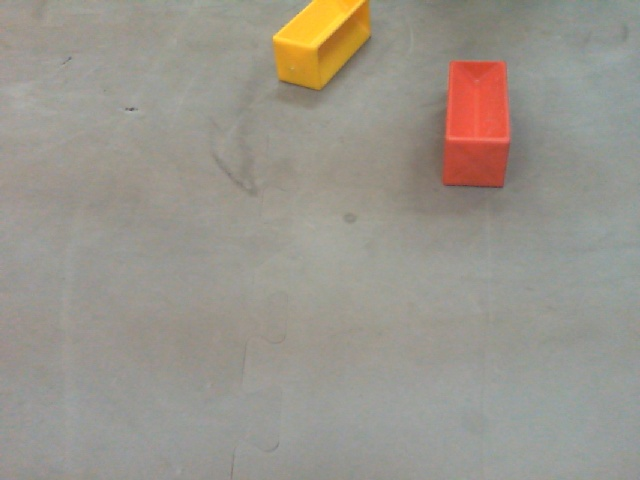RedSample: (438, 59, 514, 191)
YellowSample: (273, 1, 371, 90)
